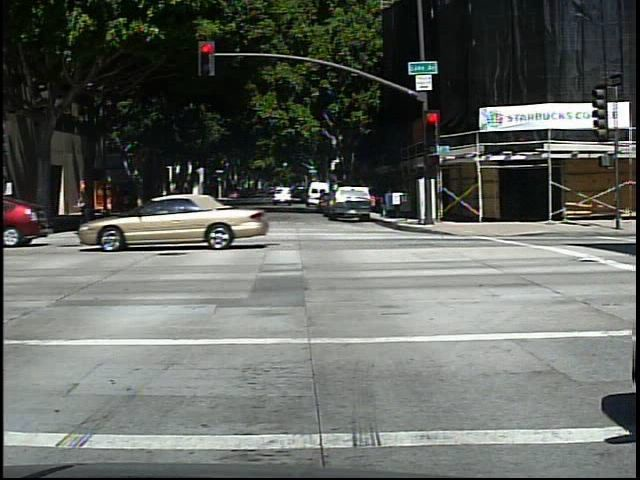person: (77, 184, 102, 231)
